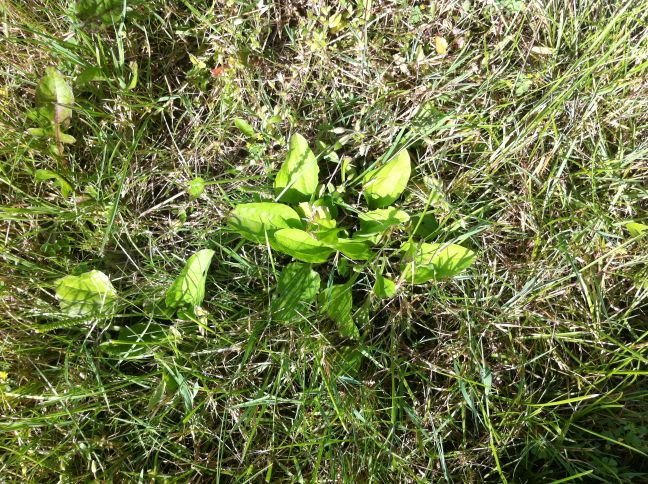weed1: (219, 129, 472, 328), (40, 244, 214, 358)
